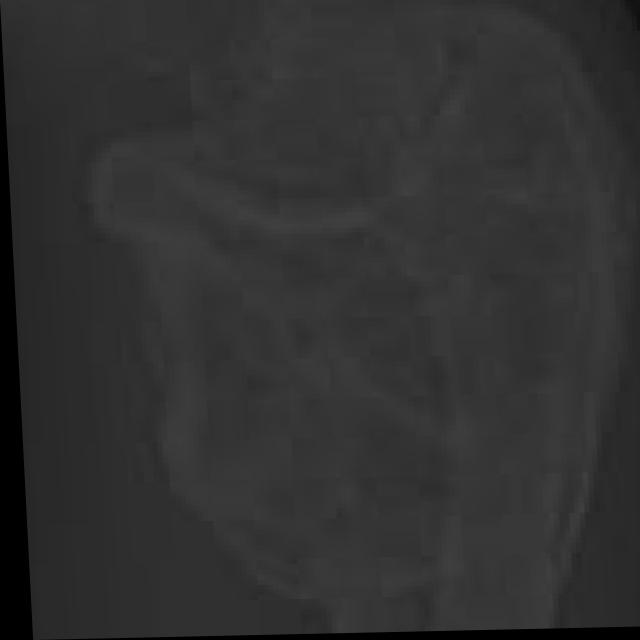fracture: (4, 0, 640, 639)
